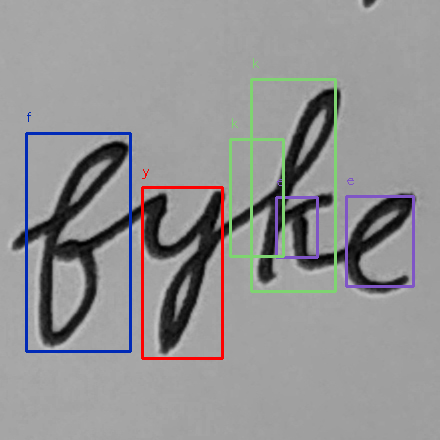e: (343, 187, 419, 300)
f: (31, 137, 134, 349)
k: (251, 83, 342, 287)
y: (138, 184, 235, 359)
